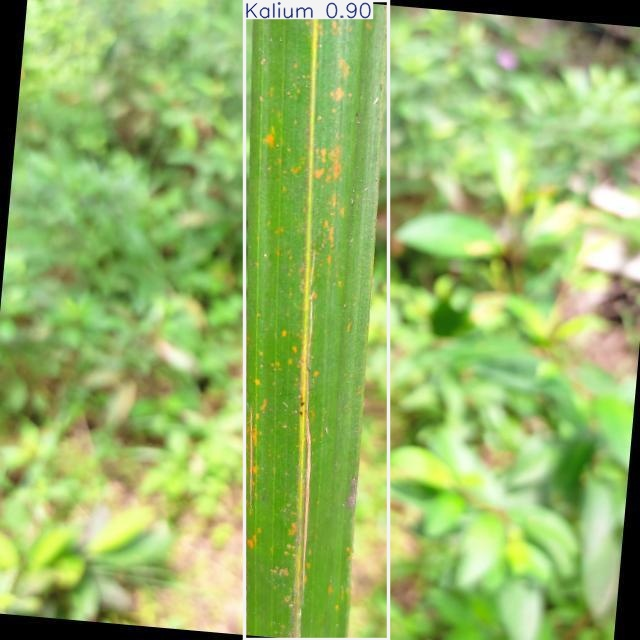Kalium: (244, 0, 389, 640)
